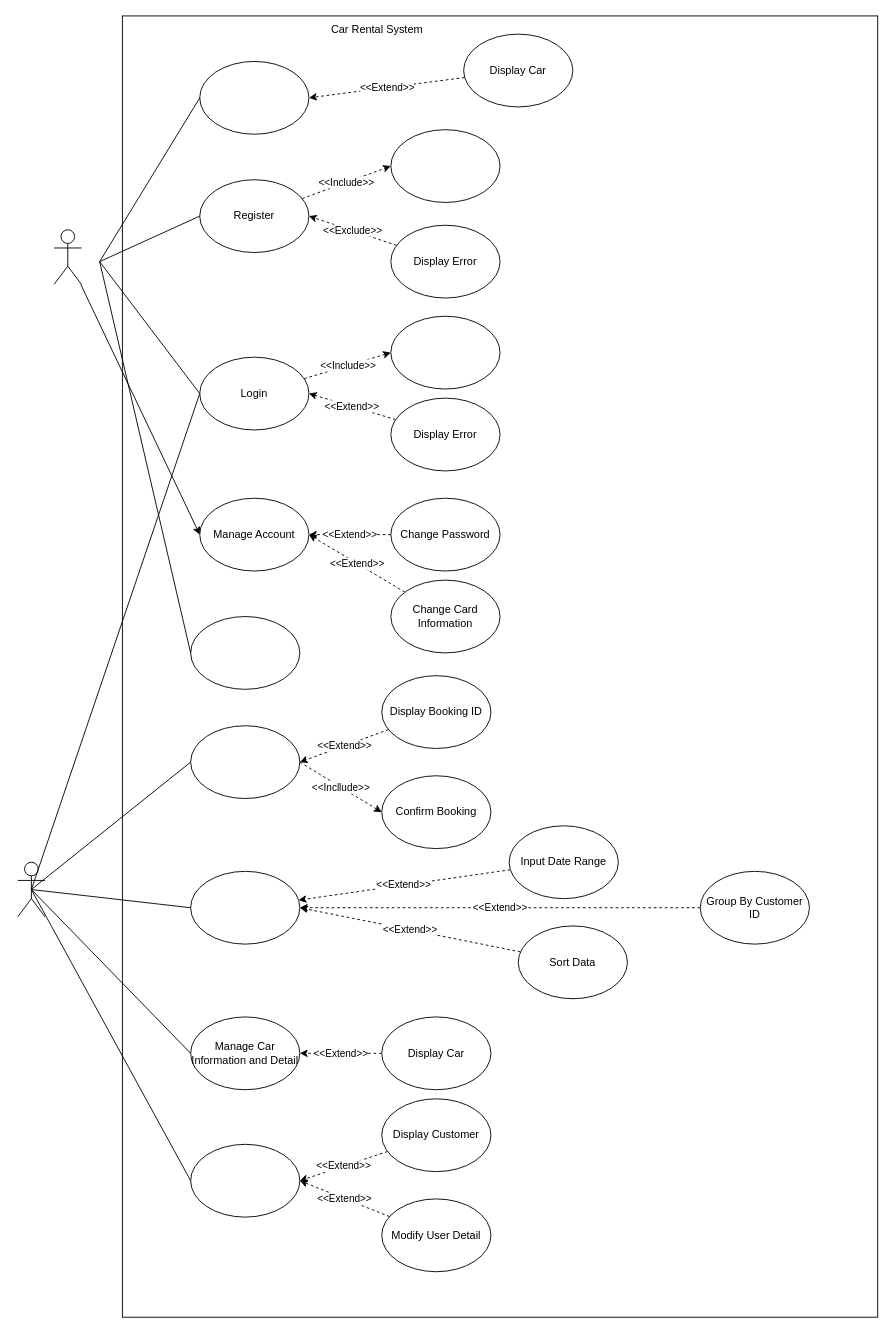
This 894x1333 diagram has some shape labels left out. The shapes that lost their labels are listed below. From the top down, each one's box as (x1, y1, x2, y2) in pixels, then its label:
(199, 61, 309, 134): Booking A Car
(390, 129, 500, 202): Verify Duplicate Username
(53, 229, 81, 284): Client
(390, 315, 500, 389): Verify Password
(190, 616, 300, 689): Check Customer Booking History
(190, 725, 300, 799): Manage Customer Booking
(17, 861, 45, 917): Admin
(190, 870, 300, 944): Generate Analysis Report
(190, 1143, 300, 1217): Manage Customer Registration
